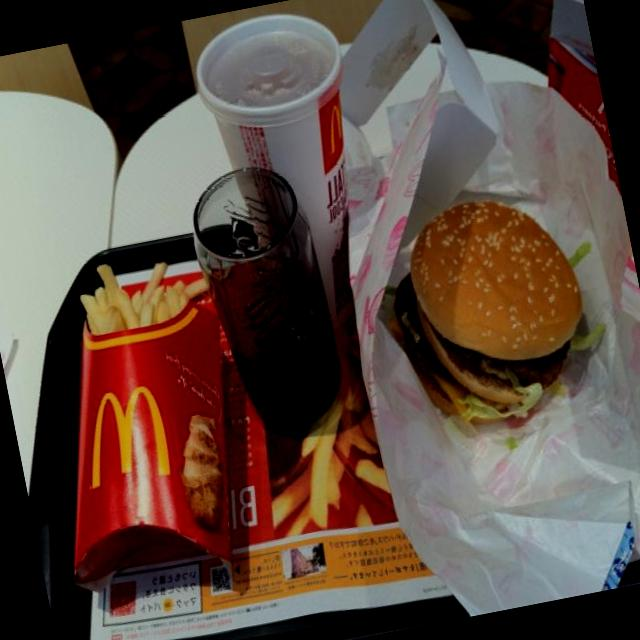Hamburger: (364, 177, 606, 450)
